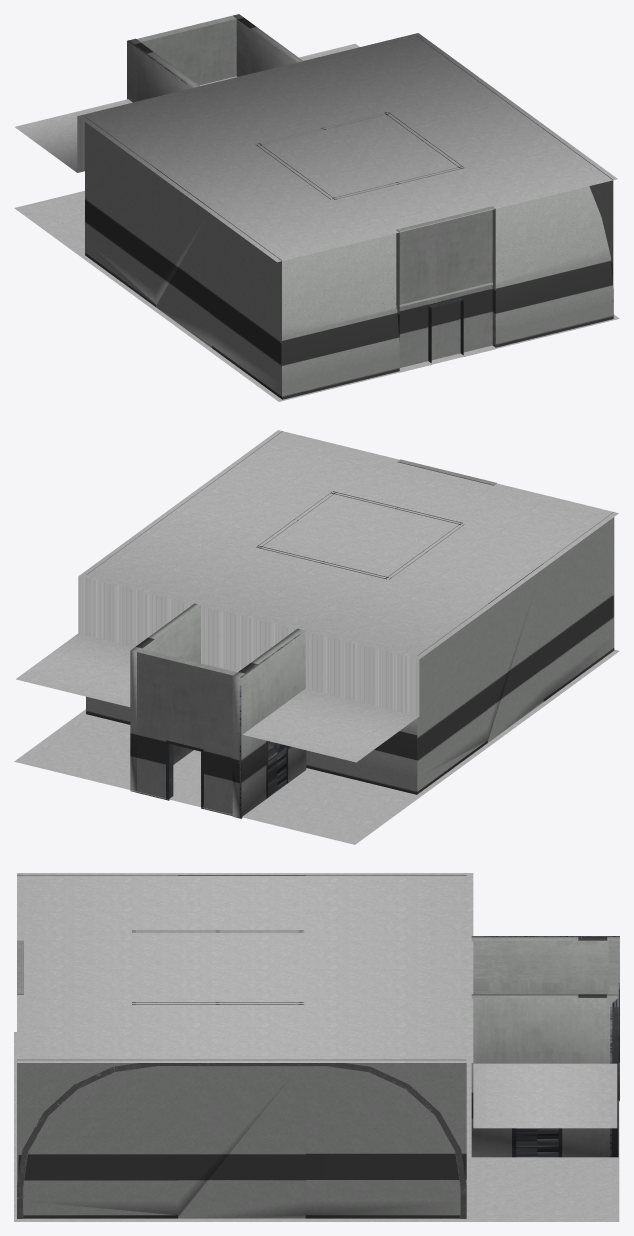
3 views of the same model, one above another, from view 1: azimuth 30°, elevation 25°; view 2: azimuth 150°, elevation 25°; view 3: azimuth 270°, elevation 25° (orthographic). The views are drawn at different scales.
Parts seen in each view (by area): view 1: polySurface22, Curve_Wall, pasted__Main_Wall03, pasted__Main_Wall04, polySurface22.001, pasted__Main_Wall04.001; view 2: polySurface22, Curve_Wall, polySurface22.001, pasted__Main_Wall04.001, pasted__Main_Wall04; view 3: polySurface22, Curve_Wall, pasted__Main_Wall04, polySurface22.001, Pillier, pasted__Main_Wall04.001, Window_Frame.001.
Boxes of the visible parts, x1,y1,x2,y2 form: polySurface22: [15, 33, 617, 262]; Curve_Wall: [85, 36, 613, 399]; pasted__Main_Wall03: [396, 206, 495, 372]; pasted__Main_Wall04: [127, 14, 302, 102]; polySurface22.001: [14, 191, 619, 401]; pasted__Main_Wall04.001: [136, 15, 236, 85]; polySurface22: [16, 430, 618, 762]; Curve_Wall: [86, 431, 614, 794]; polySurface22.001: [14, 649, 619, 844]; pasted__Main_Wall04.001: [137, 649, 237, 815]; pasted__Main_Wall04: [130, 603, 306, 818]; polySurface22: [17, 873, 617, 1128]; Curve_Wall: [17, 875, 466, 1218]; pasted__Main_Wall04: [471, 936, 619, 1157]; polySurface22.001: [14, 1032, 619, 1221]; Pillier: [17, 1063, 466, 1218]; pasted__Main_Wall04.001: [608, 940, 618, 994]; Window_Frame.001: [132, 930, 303, 932].
Size of the model in its own units: 2090 by 823 by 2812.
Materials: 10 (10 with a texture image).
